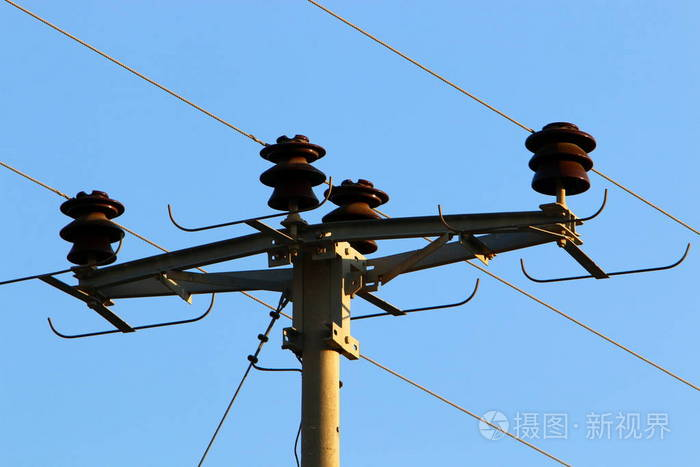insulator: (526, 127, 601, 192), (260, 138, 327, 207), (60, 194, 125, 263), (321, 184, 393, 229)
